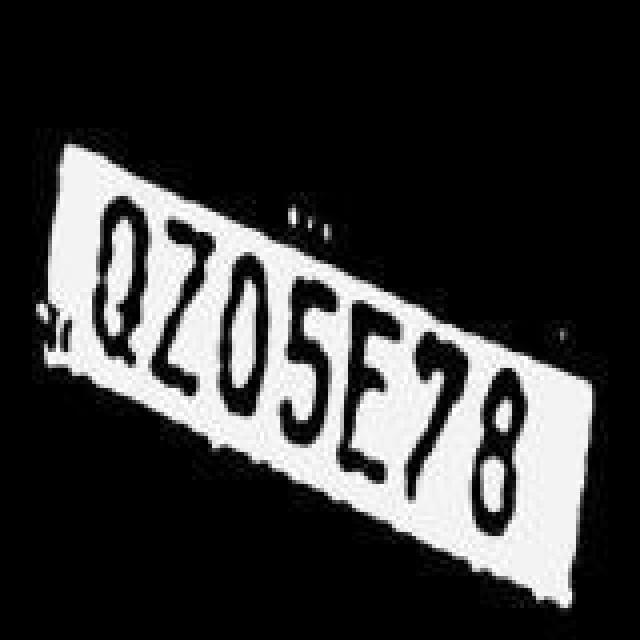5: (280, 240, 336, 464)
7: (400, 332, 464, 516)
8: (470, 366, 538, 562)
E: (342, 298, 402, 494)
O: (212, 242, 268, 430)
Q: (92, 192, 148, 376)
Z: (148, 210, 212, 414)
